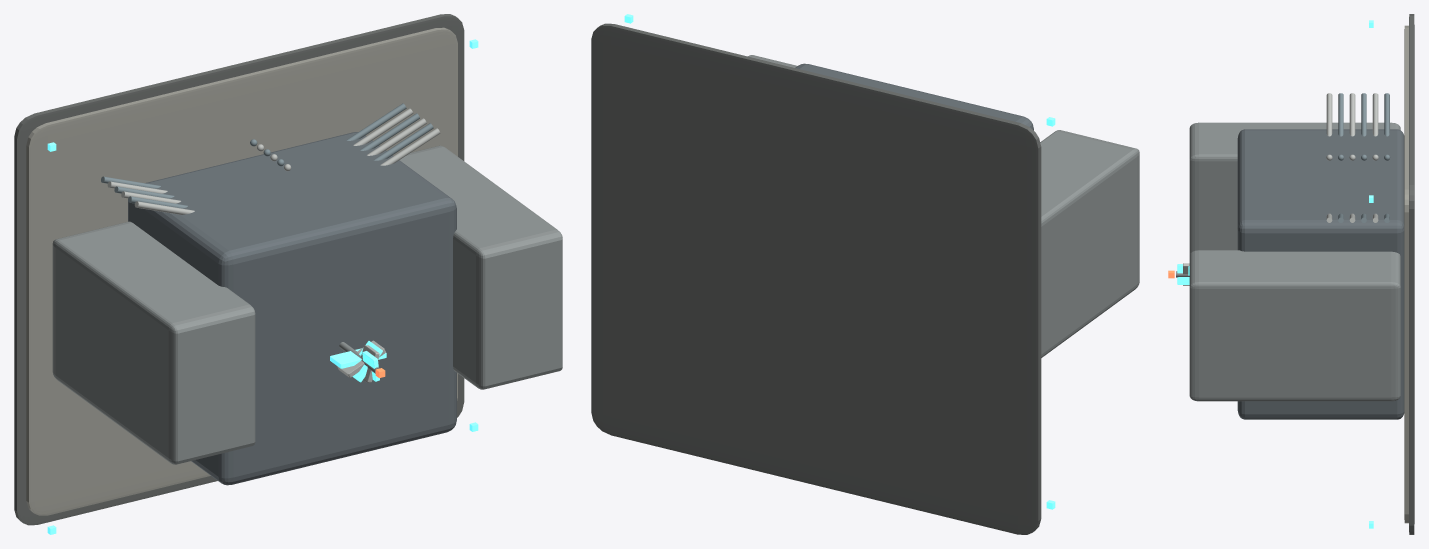
The model's file is b-26-cyber-lab-lod1.glb.
3 renders of one model, left to right at view 1: azimuth 30°, elevation 25°; view 2: azimuth 150°, elevation 25°; view 3: azimuth 270°, elevation 25°, orthographic. The views are drawn at different scales.
Visible parts, largest first — view 1: primary_data_cube, foundation_inner_pad, server_cooling_tower_-5.5, server_cooling_tower_5.5, foundation; view 2: foundation, server_cooling_tower_-5.5, primary_data_cube; view 3: server_cooling_tower_5.5, primary_data_cube, server_cooling_tower_-5.5, foundation, foundation_inner_pad.
Boxes of the visible parts, bbox=[...] form: primary_data_cube: bbox=[128, 132, 456, 485]; foundation_inner_pad: bbox=[26, 27, 457, 515]; server_cooling_tower_-5.5: bbox=[52, 221, 255, 464]; server_cooling_tower_5.5: bbox=[399, 145, 562, 389]; foundation: bbox=[14, 14, 464, 525]; foundation: bbox=[591, 23, 1041, 534]; server_cooling_tower_-5.5: bbox=[1040, 130, 1139, 357]; primary_data_cube: bbox=[795, 63, 1033, 130]; server_cooling_tower_5.5: bbox=[1189, 250, 1400, 401]; primary_data_cube: bbox=[1237, 129, 1404, 419]; server_cooling_tower_-5.5: bbox=[1189, 122, 1400, 254]; foundation: bbox=[1409, 14, 1414, 534]; foundation_inner_pad: bbox=[1404, 25, 1408, 523].
Size of what is drawn, in the model's own units: 16 by 14 by 8.97.
